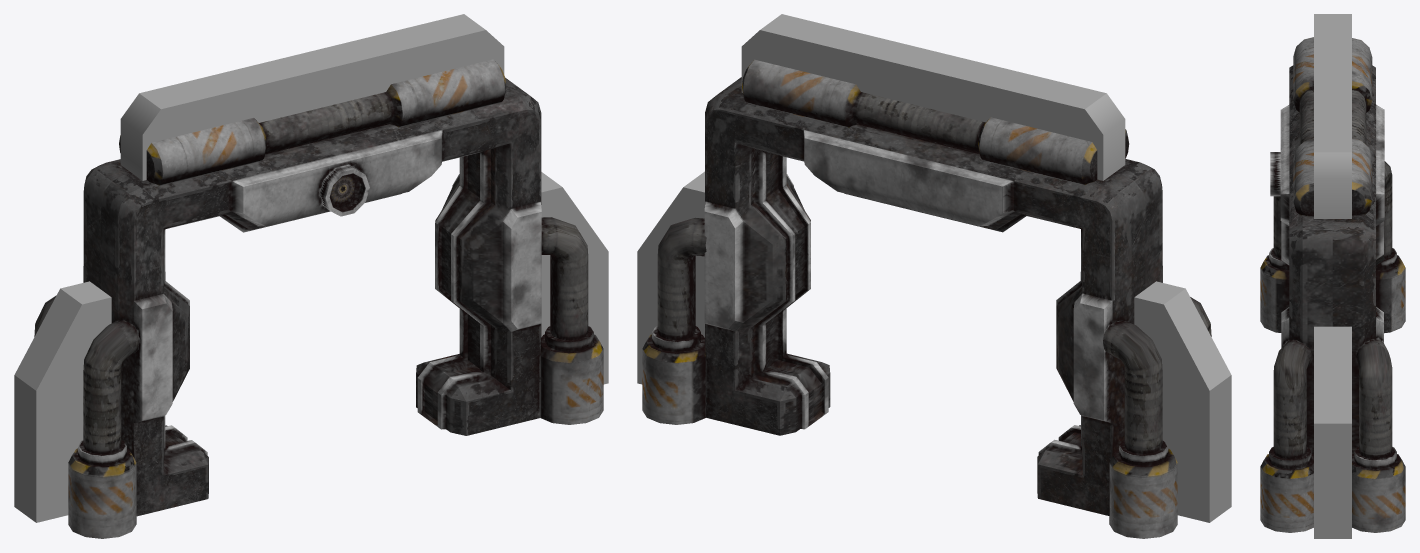
File: Door_Frame.fbx
The picture shows the model from 3 angles, left to right: view 1: azimuth 30°, elevation 25°; view 2: azimuth 150°, elevation 25°; view 3: azimuth 270°, elevation 25°; orthographic projection. The views are drawn at different scales.
Visible parts, largest first — view 1: DoorFrame; view 2: DoorFrame; view 3: DoorFrame.
Boxes of the visible parts, box(x1,y1,x2,y2) form: DoorFrame: box(14, 14, 608, 538); DoorFrame: box(637, 14, 1231, 538); DoorFrame: box(1260, 14, 1405, 538).
Bounding box in the file's own units: 774 × 501 × 195.
